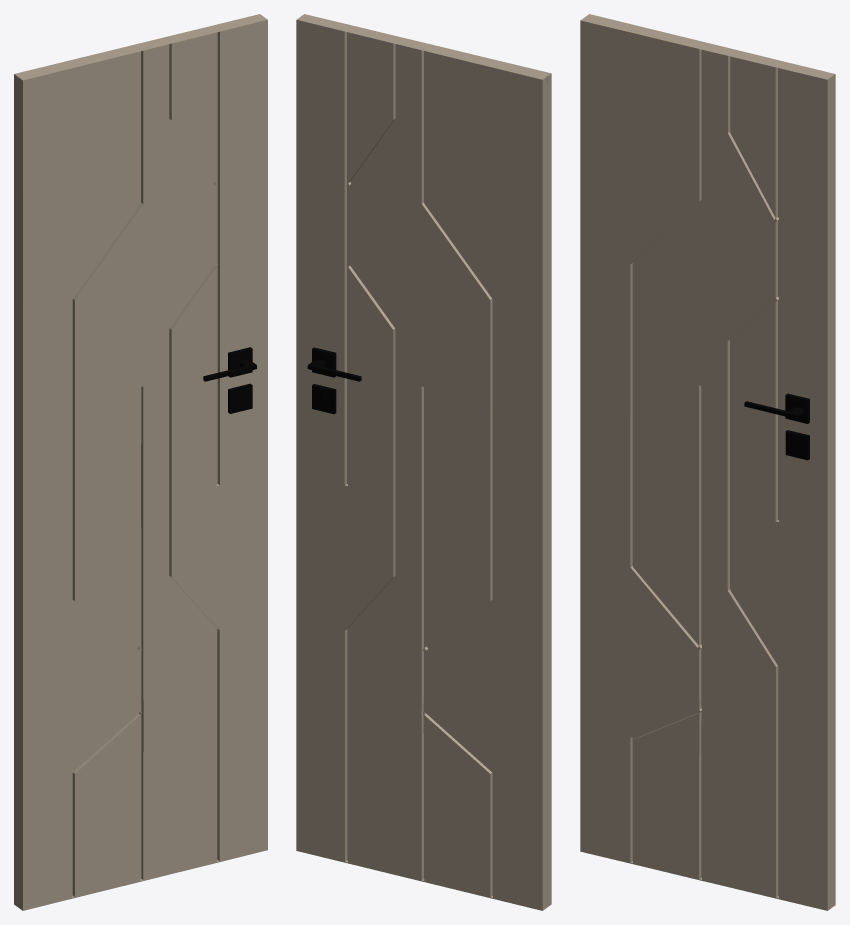
The model's file is RP_2_3b_door.glb.
The picture shows the model from 3 angles, left to right: view 1: azimuth 30°, elevation 25°; view 2: azimuth 150°, elevation 25°; view 3: azimuth 330°, elevation 25°; orthographic projection.
Visible parts, largest first — view 1: RP_2__3b_door_; view 2: RP_2__3b_door_; view 3: RP_2__3b_door_.
Part boxes in pixels (left/top/right/bottom): RP_2__3b_door_: left=14, top=14, right=267, bottom=910; RP_2__3b_door_: left=296, top=14, right=551, bottom=910; RP_2__3b_door_: left=580, top=14, right=835, bottom=910.
Bounding box in the file's own units: 0.5515 × 1.78 × 0.1089.
Materials: 1 (1 with a texture image).
